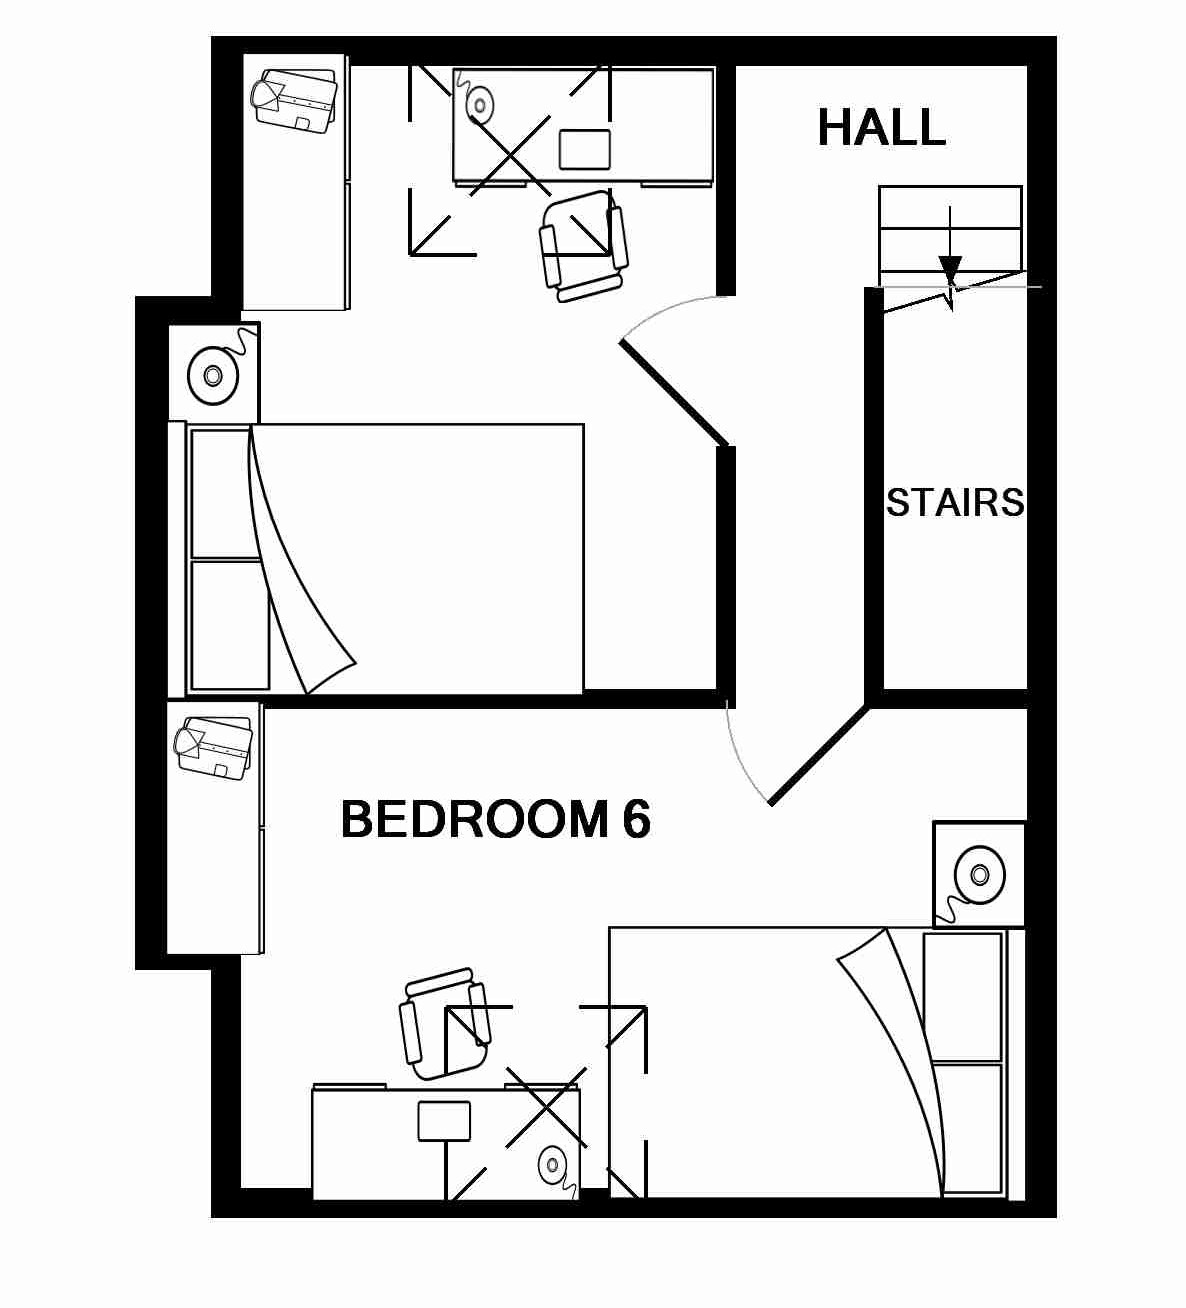wall: (1024, 34, 1054, 1216), (346, 34, 1056, 64), (134, 299, 164, 968), (316, 1202, 1056, 1223), (262, 694, 736, 712), (212, 956, 238, 1218), (214, 34, 236, 326), (866, 284, 880, 704), (718, 444, 733, 704), (718, 62, 733, 294), (138, 296, 242, 328), (866, 690, 1030, 710), (214, 1186, 312, 1218), (236, 34, 347, 54), (134, 956, 236, 970), (576, 1188, 608, 1218)
